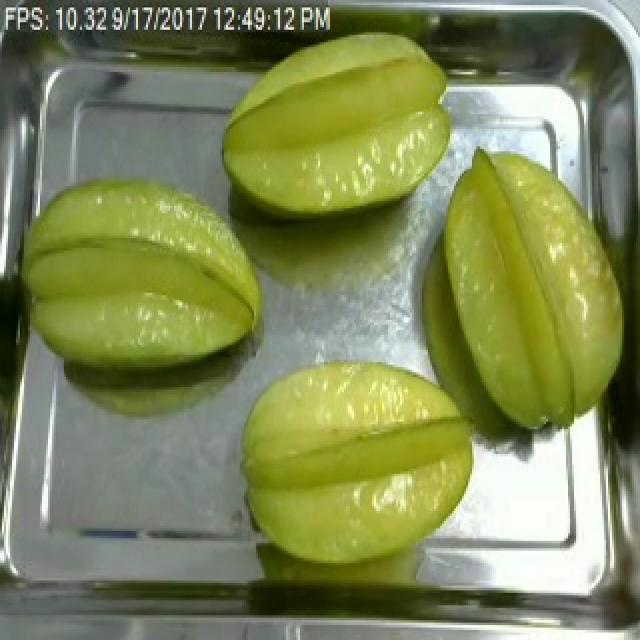fruit: (424, 134, 638, 442), (6, 166, 276, 390), (226, 350, 486, 580), (210, 15, 470, 226)
